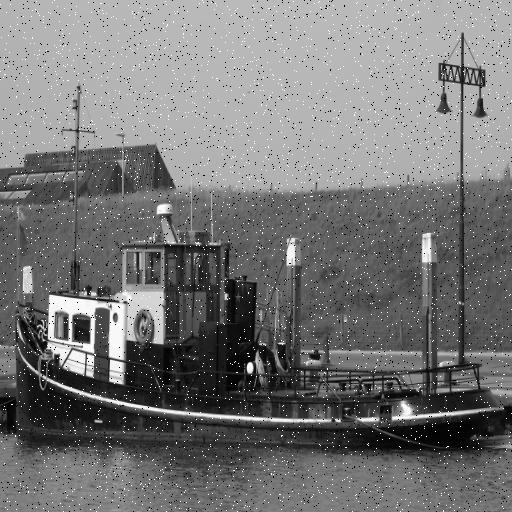tugboat: (14, 198, 510, 461)
